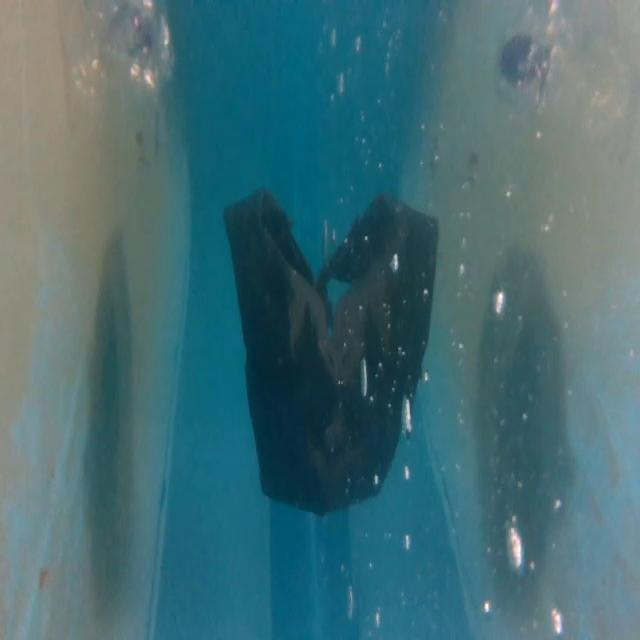plastic bags: (219, 178, 442, 520)
